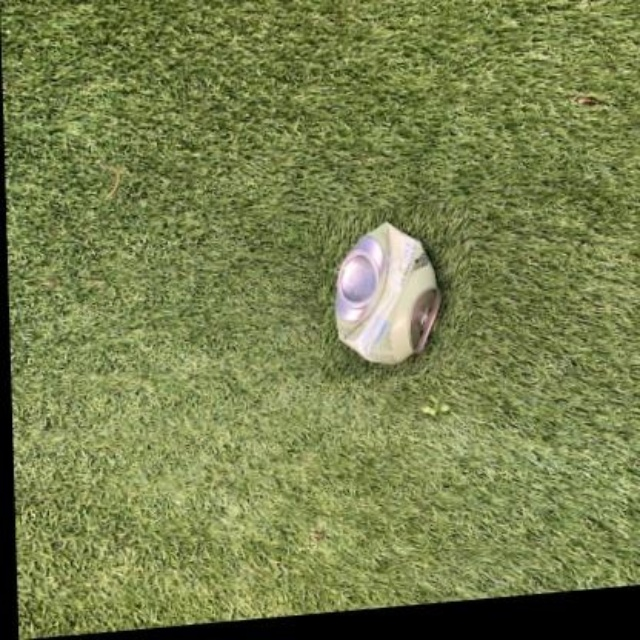trash: (335, 223, 440, 363)
